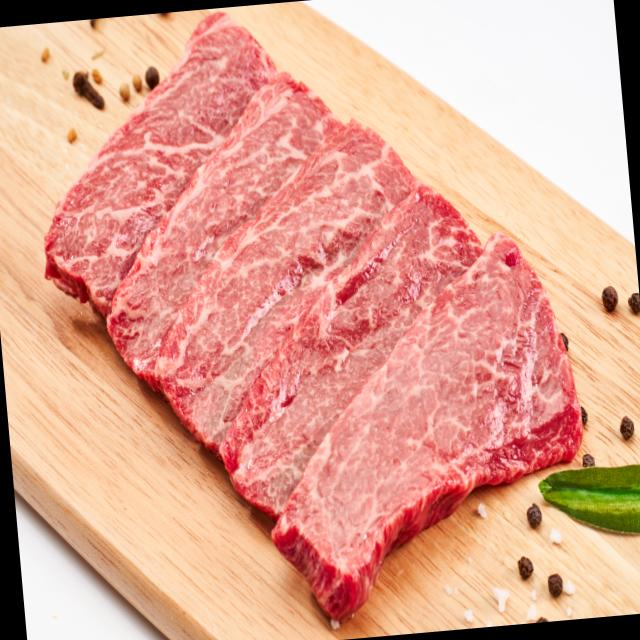beef: (11, 0, 586, 640)
